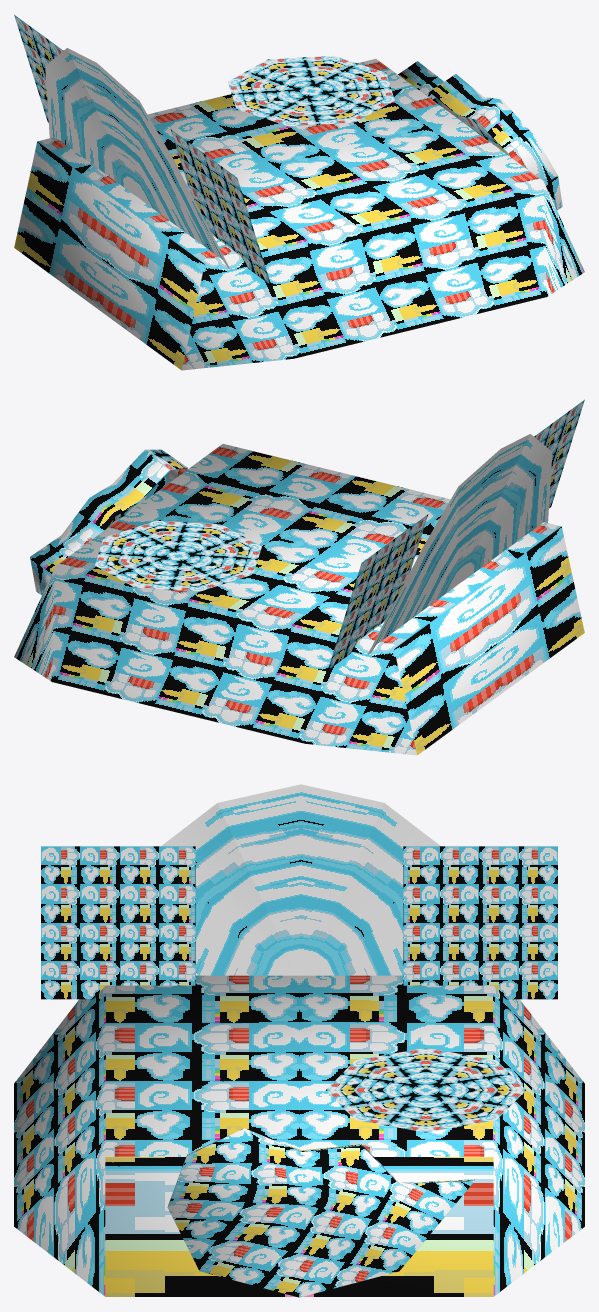
File: 3714kg_sk_bed.gltf
3 renders of one model, top to bottom at view 1: azimuth 30°, elevation 25°; view 2: azimuth 150°, elevation 25°; view 3: azimuth 270°, elevation 25°, orthographic. The views are drawn at different scales.
Parts seen in each view (by area): view 1: 3714kg_sk_bed; view 2: 3714kg_sk_bed; view 3: 3714kg_sk_bed.
Boxes of the visible parts, x1,y1,x2,y2 form: 3714kg_sk_bed: (14, 14, 584, 370); 3714kg_sk_bed: (14, 399, 584, 755); 3714kg_sk_bed: (14, 784, 584, 1297).
Size of the model in its own units: 1.96 by 1.07 by 1.95.
1 material, 1 textured.
